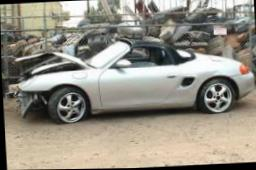Bonnet: (16, 52, 96, 82)
Bumper: (6, 86, 52, 117)
